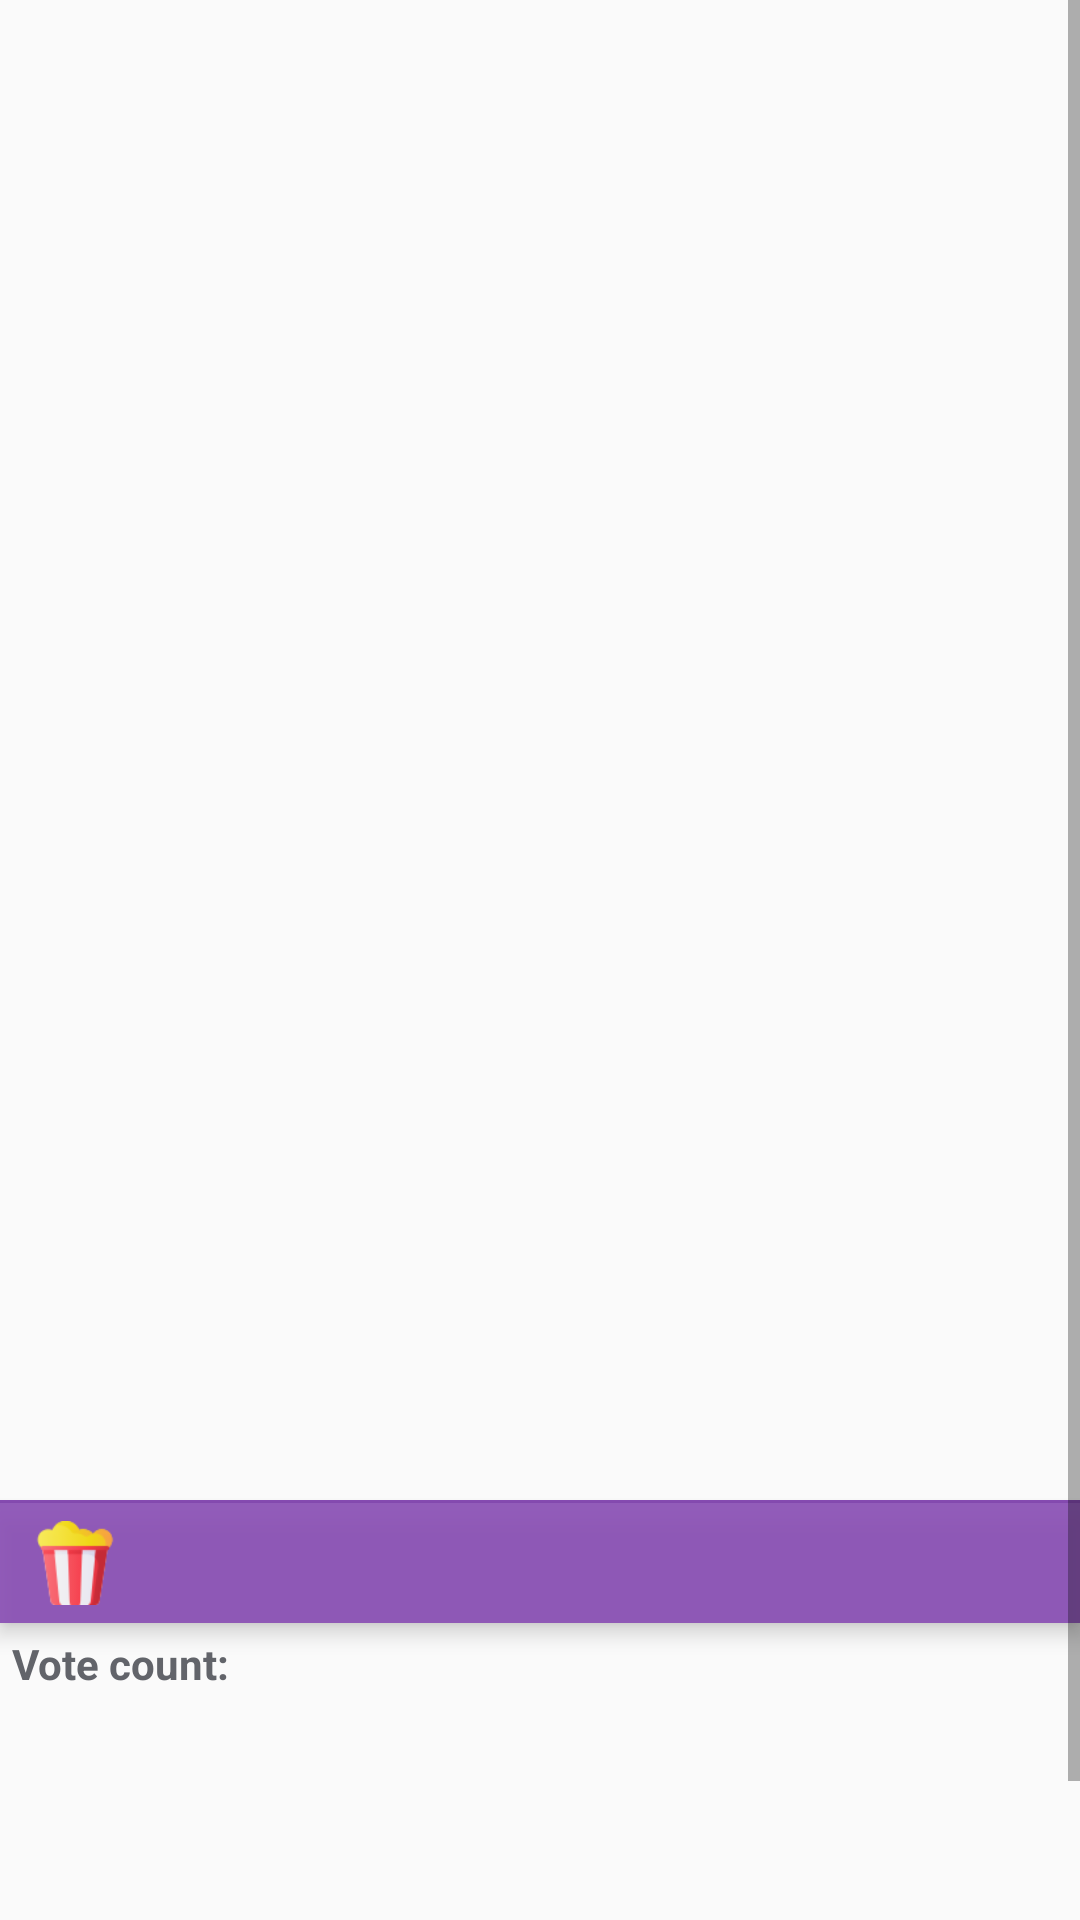

Point at icon controls on the screen. Image size 1080x1920, points as [x,y].
popcorn image: [75,1563]
